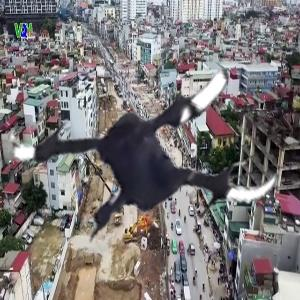drone: (14, 3, 292, 281)
